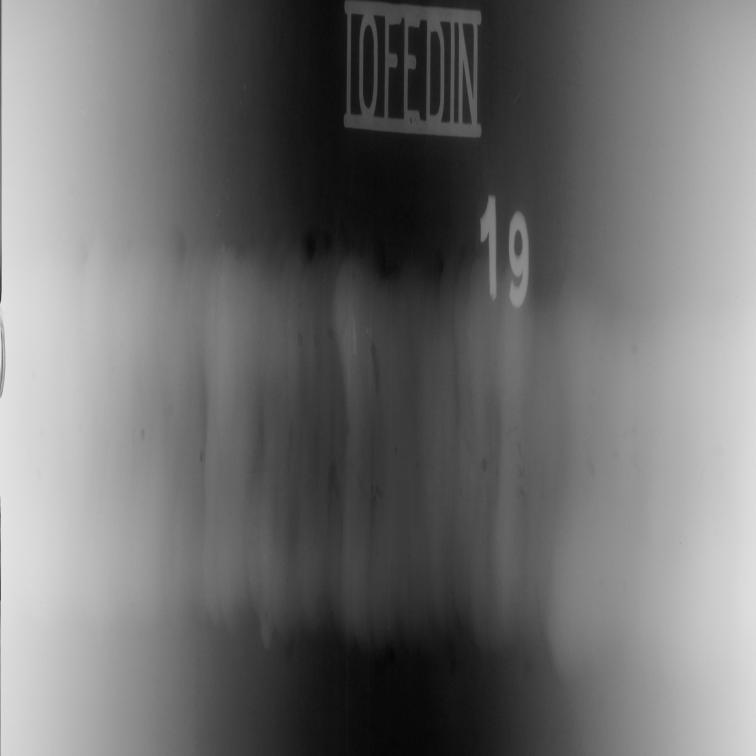FF: (241, 395, 359, 673), (267, 217, 340, 364), (161, 220, 257, 292)
IE: (572, 306, 669, 616), (468, 376, 532, 528), (367, 450, 390, 553)
PO: (196, 442, 206, 478), (140, 418, 148, 446)
